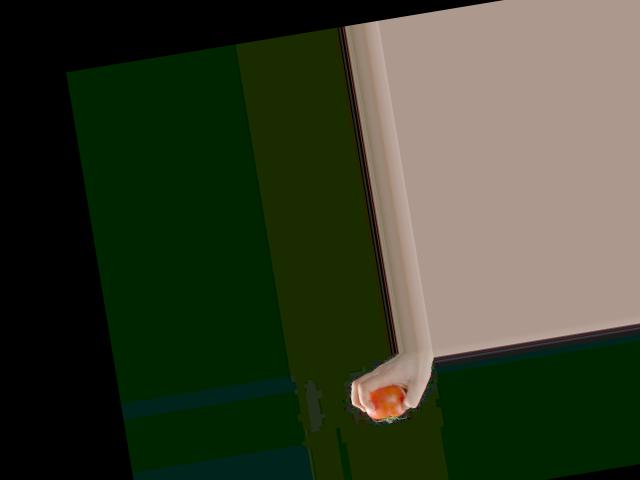tomato: (363, 383, 410, 425)
